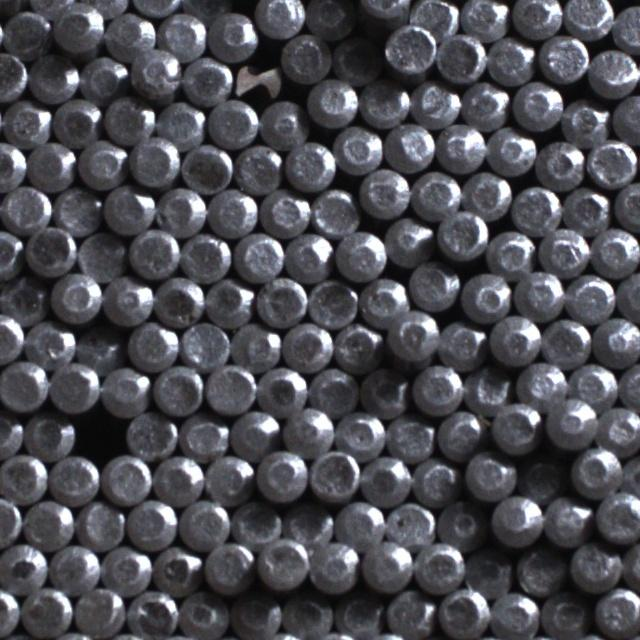tool: (383, 21, 438, 78), (544, 395, 599, 450), (490, 493, 543, 548), (308, 538, 359, 595), (385, 309, 436, 366), (307, 448, 360, 502), (489, 400, 541, 454), (436, 586, 488, 640), (488, 314, 541, 366), (202, 539, 254, 592), (125, 587, 179, 638), (256, 276, 308, 328), (283, 405, 335, 457), (463, 451, 515, 503), (539, 588, 591, 640), (570, 446, 622, 498), (437, 207, 488, 260), (413, 541, 464, 594), (24, 225, 75, 278), (19, 585, 72, 636), (358, 77, 411, 128), (305, 75, 356, 128), (508, 184, 562, 234), (360, 454, 411, 506), (152, 363, 203, 415), (568, 540, 620, 591), (179, 140, 230, 192), (204, 362, 255, 414), (411, 362, 462, 414), (257, 538, 308, 590), (334, 407, 385, 458), (180, 230, 231, 281), (102, 185, 153, 236), (588, 45, 639, 96), (384, 121, 435, 172), (74, 584, 125, 635), (128, 227, 179, 278), (464, 548, 515, 599), (126, 497, 176, 549), (22, 498, 72, 550), (178, 498, 228, 550), (255, 450, 305, 502), (152, 275, 202, 327), (384, 588, 436, 638), (129, 136, 179, 188), (308, 364, 358, 416), (283, 139, 333, 191), (257, 365, 307, 417), (360, 540, 410, 592), (104, 10, 156, 60), (53, 5, 103, 57), (332, 34, 382, 86), (234, 231, 284, 282), (124, 410, 175, 460), (539, 31, 589, 82), (229, 407, 279, 458), (460, 271, 511, 321), (179, 319, 230, 369), (100, 453, 150, 504), (281, 320, 332, 370), (207, 97, 257, 148), (206, 186, 256, 237), (538, 225, 588, 276), (308, 276, 358, 327), (515, 546, 566, 596), (127, 320, 178, 370), (408, 262, 459, 312), (152, 453, 202, 504), (541, 318, 592, 368), (101, 276, 151, 327), (76, 138, 126, 189), (358, 276, 408, 327), (152, 542, 202, 593), (156, 186, 206, 237), (280, 32, 330, 83), (50, 542, 101, 592), (3, 8, 53, 59), (282, 500, 332, 551), (76, 407, 126, 458), (359, 366, 408, 418), (230, 499, 282, 548), (435, 32, 484, 84), (435, 408, 485, 458), (510, 80, 560, 130), (410, 168, 460, 218), (283, 230, 333, 280), (49, 453, 99, 503), (385, 498, 435, 548), (461, 168, 511, 218), (0, 183, 50, 233), (590, 226, 640, 276), (485, 35, 535, 85), (180, 54, 230, 104), (515, 270, 565, 320), (52, 272, 102, 322), (435, 318, 485, 368), (52, 96, 102, 146), (586, 137, 636, 187), (48, 364, 98, 414), (206, 10, 256, 60), (489, 590, 539, 640), (517, 452, 567, 502), (130, 47, 180, 97), (99, 365, 148, 416), (21, 410, 72, 459), (486, 227, 535, 278), (333, 499, 384, 548), (332, 320, 381, 371), (543, 497, 592, 548), (567, 359, 616, 410), (463, 362, 514, 411), (102, 95, 151, 146), (334, 592, 386, 640), (282, 592, 334, 640), (53, 184, 102, 234), (179, 411, 229, 460), (233, 144, 282, 194), (77, 230, 126, 280), (335, 230, 384, 280), (204, 276, 253, 326), (230, 320, 279, 370), (561, 183, 610, 233), (102, 544, 152, 593), (27, 138, 76, 188), (28, 53, 78, 102), (535, 138, 584, 188), (486, 126, 535, 176), (593, 585, 640, 637), (0, 542, 47, 594), (238, 57, 290, 104), (436, 122, 485, 171), (358, 167, 407, 216), (78, 51, 127, 100), (384, 215, 433, 264), (460, 78, 508, 128), (178, 592, 228, 640), (77, 499, 125, 549), (204, 452, 252, 502), (436, 498, 484, 548), (517, 359, 567, 407), (335, 125, 383, 175), (310, 186, 357, 237), (595, 490, 640, 543), (260, 188, 309, 236), (411, 80, 460, 128), (156, 98, 204, 147), (566, 273, 614, 322), (26, 320, 75, 368), (411, 456, 459, 505), (157, 10, 205, 59), (560, 96, 608, 145), (0, 274, 48, 323), (593, 316, 640, 366), (230, 593, 280, 640), (387, 412, 435, 460), (3, 98, 51, 146), (258, 101, 306, 149), (0, 360, 46, 410), (0, 452, 46, 502), (74, 322, 121, 370), (599, 403, 640, 453), (409, 0, 459, 41), (459, 0, 508, 40), (510, 0, 560, 39), (304, 0, 354, 39), (562, 0, 613, 38), (256, 0, 304, 38), (610, 93, 640, 143), (612, 180, 640, 230), (0, 49, 27, 100), (613, 1, 640, 51), (0, 139, 26, 190), (617, 271, 640, 320), (0, 314, 22, 364), (618, 455, 640, 504), (0, 495, 21, 545), (0, 408, 21, 458), (618, 362, 640, 409), (0, 227, 21, 276), (182, 0, 230, 19)
